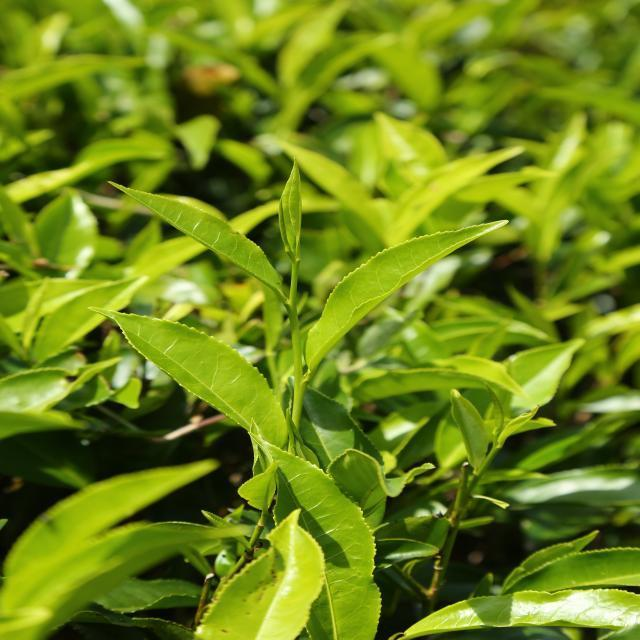Stem: (289, 306, 297, 319), (489, 448, 498, 457)
